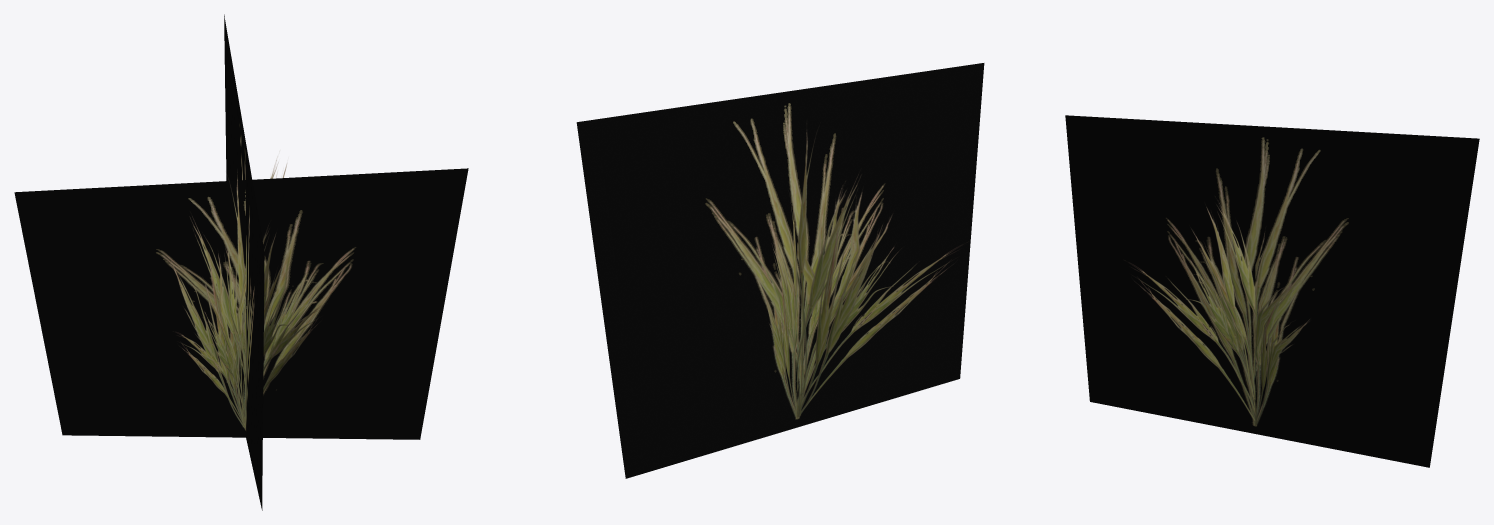
File: grass-3.glb
3 views of the same model, side by side, from view 1: azimuth 30°, elevation 25°; view 2: azimuth 150°, elevation 25°; view 3: azimuth 270°, elevation 25° (orthographic). The views are drawn at different scales.
Parts seen in each view (by area): view 1: Grass-03; view 2: Grass-03; view 3: Grass-03.
Part boxes in pixels (x1=…): Grass-03: x1=14, y1=14, x2=468, y2=510; Grass-03: x1=576, y1=63, x2=984, y2=478; Grass-03: x1=1065, y1=115, x2=1479, y2=467.
Bounding box in the file's own units: 1.42 × 1.2 × 1.33.
2 materials, 2 textured.
